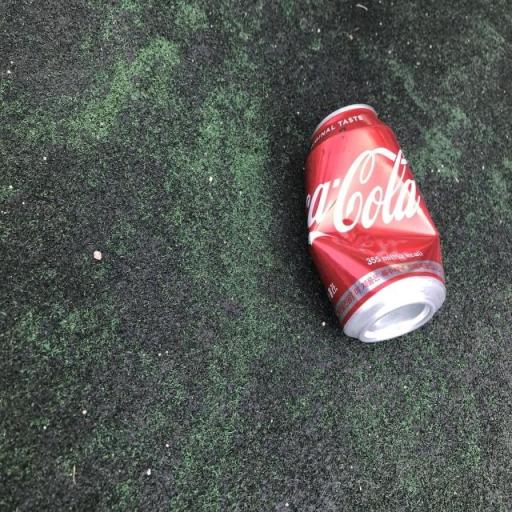metal: (292, 21, 458, 400)
